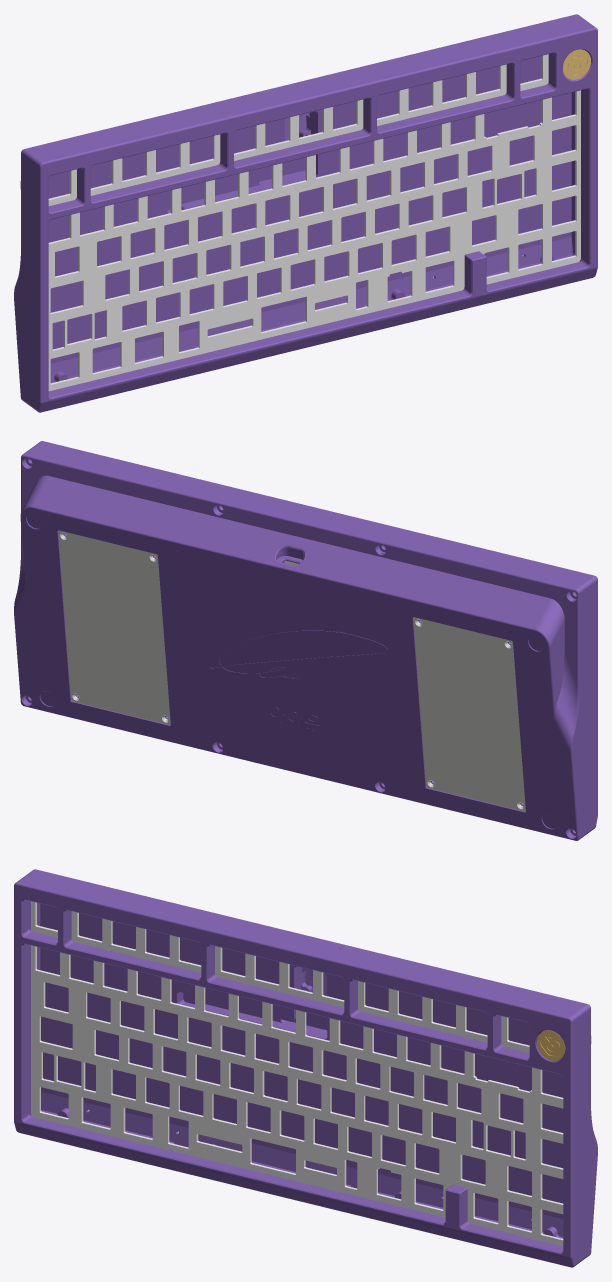
File: kellyiu-kelly.fbx
3 views of the same model, one above another, from view 1: azimuth 30°, elevation 25°; view 2: azimuth 150°, elevation 25°; view 3: azimuth 330°, elevation 25° (orthographic).
Parts seen in each view (by area): view 1: Bottom, Plate, Top, Badge; view 2: Bottom, Lid1, Lid2, Top; view 3: Bottom, Plate, Top, Badge.
Boxes of the visible parts, x1,y1,x2,y2 form: Bottom: (14,14,584,404); Plate: (48,54,580,391); Top: (28,20,597,412); Badge: (562,49,590,79); Bottom: (14,449,587,840); Lid1: (58,530,170,724); Lid2: (413,617,525,811); Top: (31,441,597,834); Bottom: (27,869,597,1259); Plate: (31,901,563,1246); Top: (14,875,583,1267); Badge: (537,1030,565,1060).
Size of the model in its own units: 316 by 136 by 34.86.
